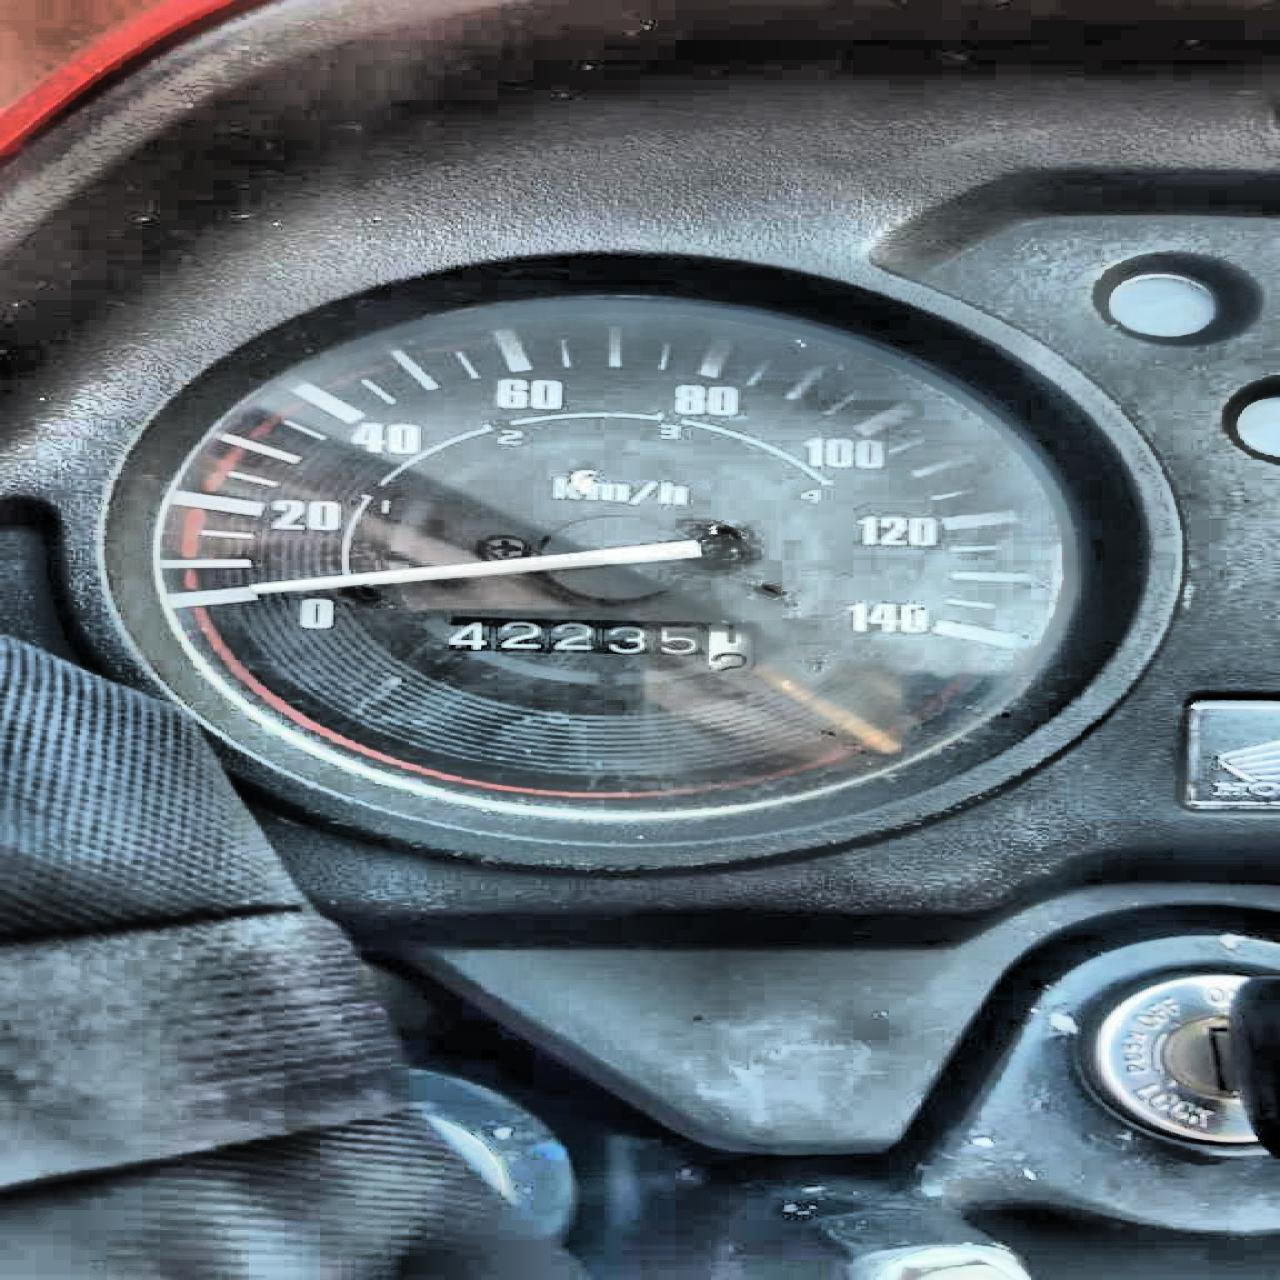1: (724, 621, 735, 642)
2: (498, 620, 540, 648), (551, 622, 591, 648), (709, 652, 747, 676)
3: (606, 625, 645, 653)
4: (447, 620, 484, 649)
5: (658, 625, 695, 654)
odometer: (438, 613, 760, 673)
